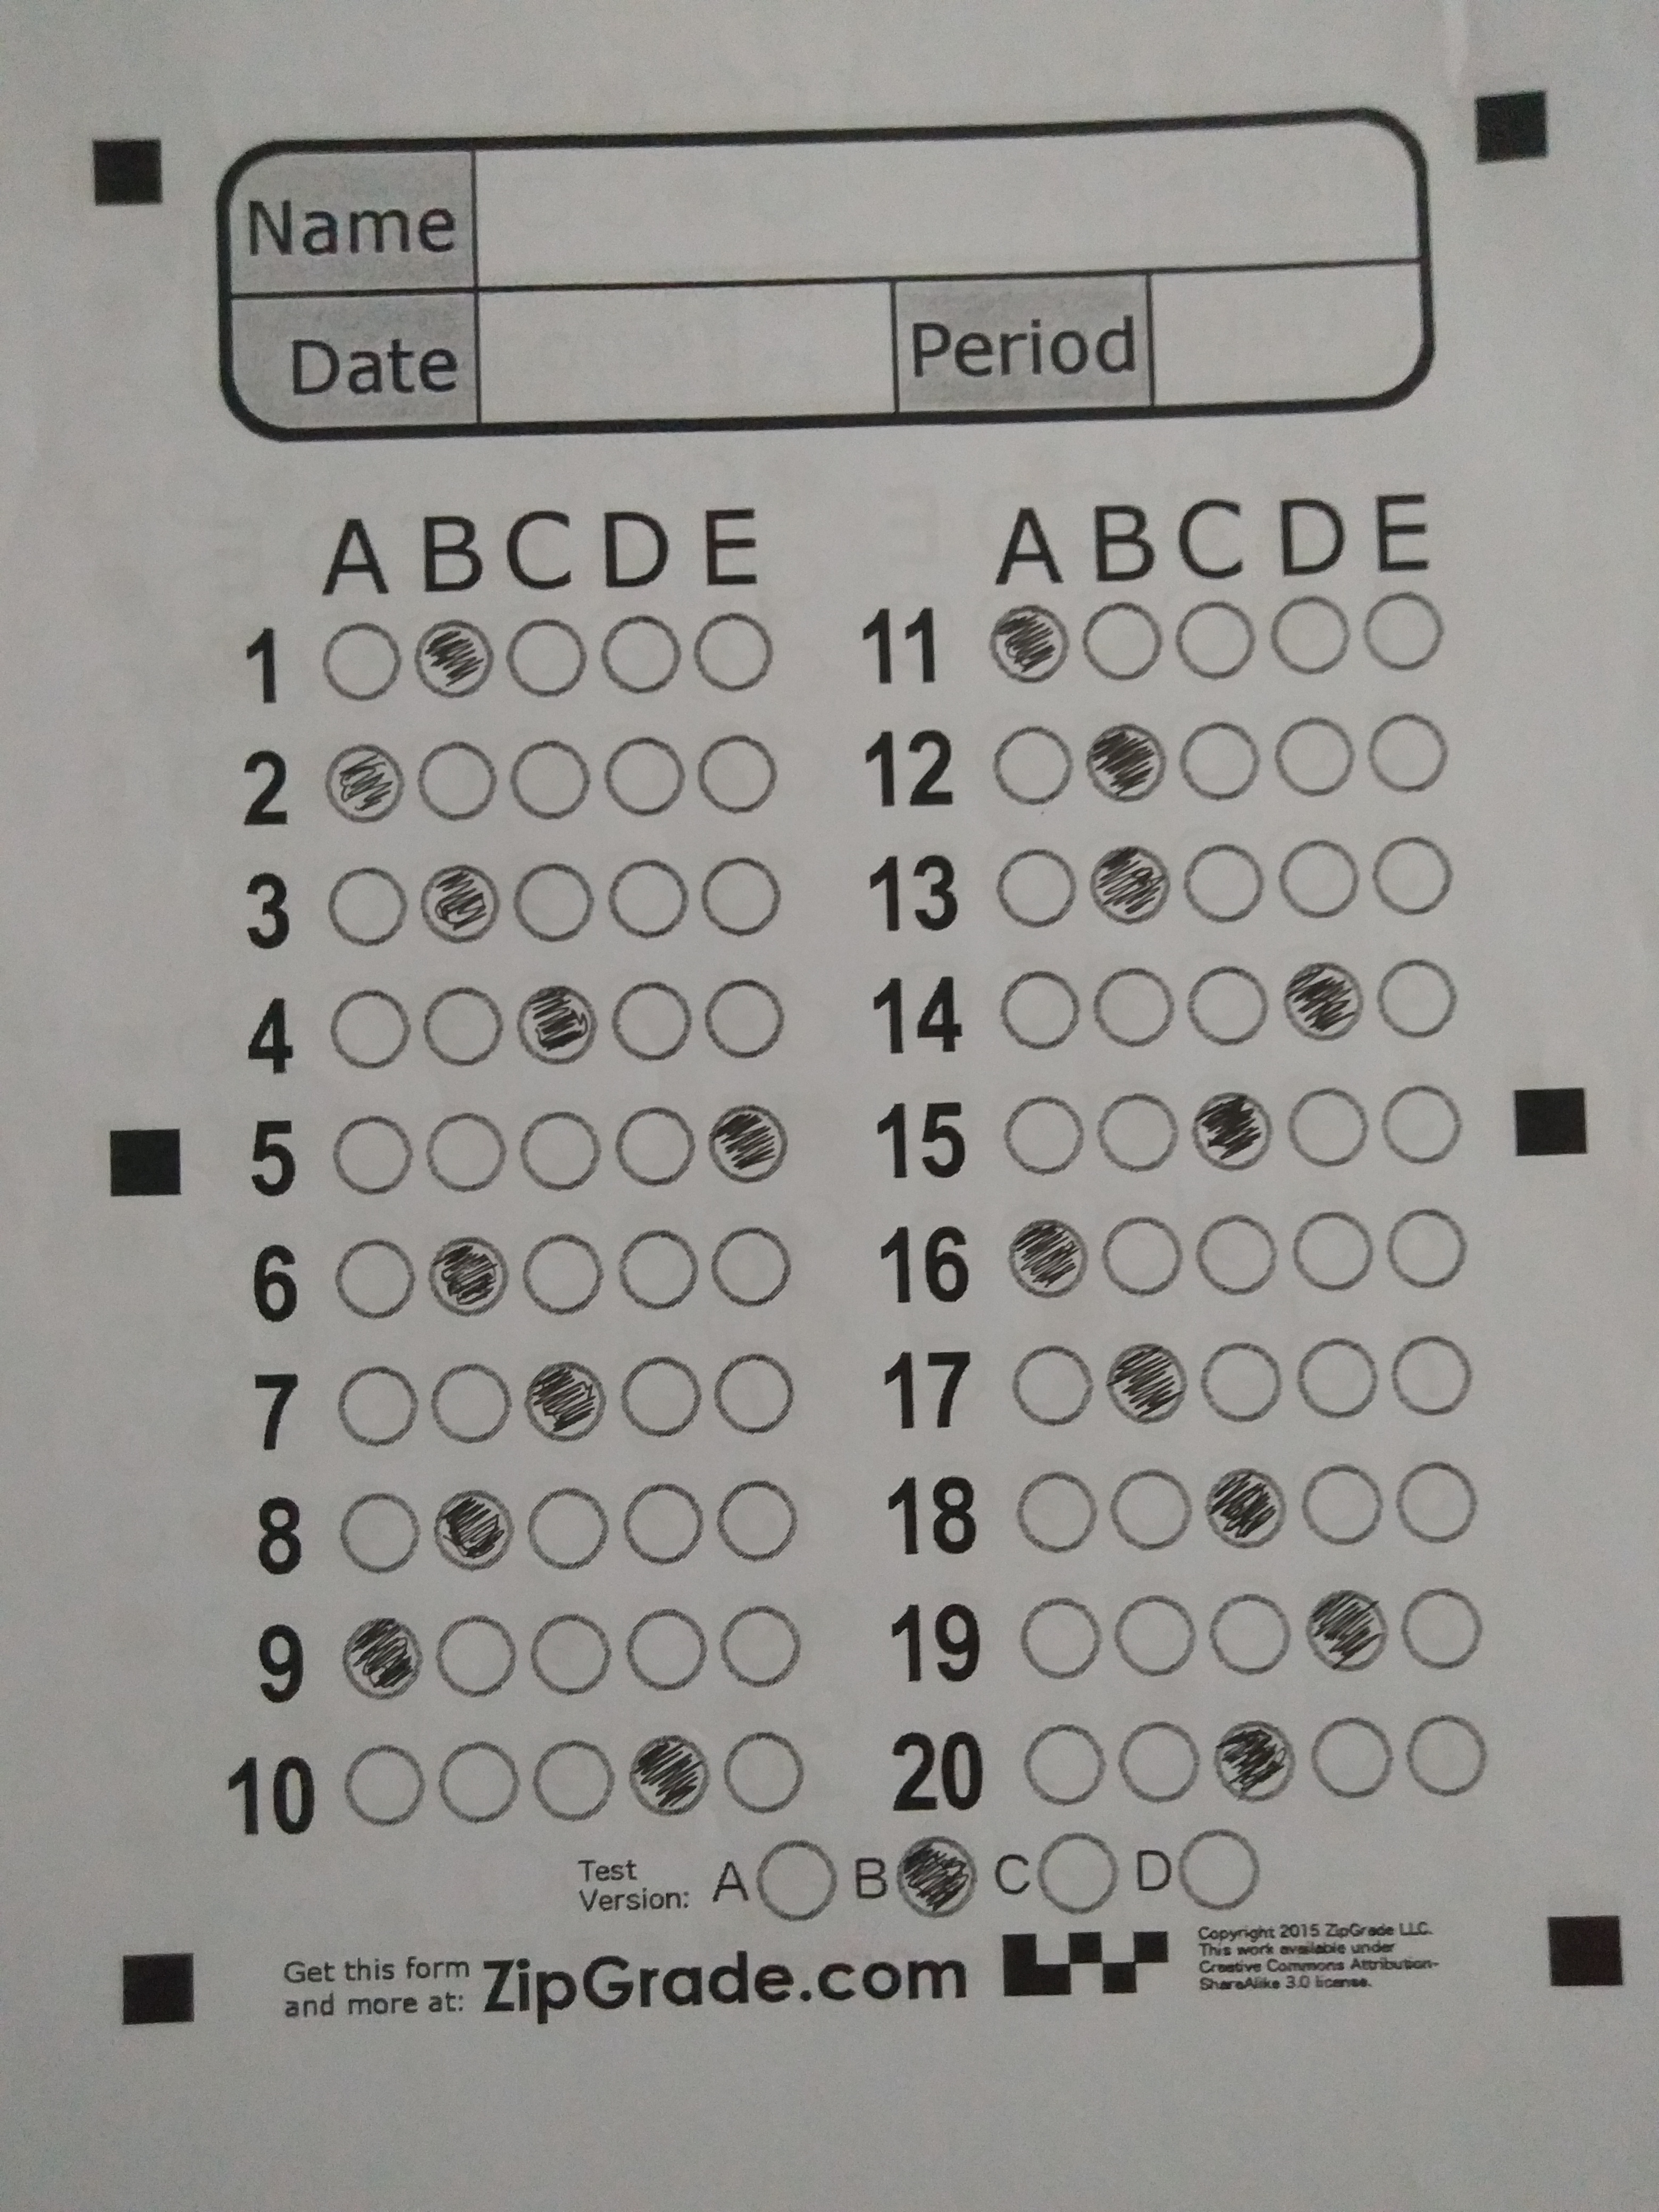not-c: (321, 620, 406, 704), (336, 1489, 422, 1573), (519, 1108, 605, 1191), (420, 988, 505, 1071), (688, 610, 774, 693), (1272, 714, 1358, 798), (1370, 834, 1455, 918), (1375, 956, 1460, 1040), (622, 1482, 706, 1566), (718, 1479, 802, 1562), (336, 1364, 420, 1447), (427, 1360, 511, 1444), (619, 1355, 702, 1439), (521, 1231, 605, 1315), (709, 1224, 793, 1308), (613, 1104, 697, 1188), (329, 986, 413, 1069), (699, 853, 782, 937), (608, 855, 692, 939), (511, 859, 594, 942), (328, 864, 411, 948), (694, 733, 777, 817), (507, 737, 591, 820), (1389, 1336, 1473, 1420), (1297, 1336, 1380, 1420), (1012, 1343, 1096, 1426), (1405, 1716, 1488, 1799), (1037, 1829, 1121, 1912), (1107, 1470, 1190, 1554), (1016, 1470, 1100, 1554), (1021, 1595, 1105, 1679), (1119, 1723, 1202, 1806), (1180, 1827, 1263, 1911), (437, 1742, 521, 1825), (532, 1740, 615, 1824), (723, 1730, 807, 1813), (1361, 587, 1445, 671), (1185, 963, 1269, 1047), (997, 968, 1080, 1052), (1378, 1083, 1462, 1167), (1096, 1090, 1180, 1174), (1000, 1090, 1084, 1174), (1385, 1205, 1469, 1289), (1293, 1209, 1377, 1292), (1100, 1212, 1183, 1296), (1173, 597, 1256, 681), (992, 721, 1075, 805), (995, 846, 1079, 930), (1269, 592, 1352, 676), (624, 1608, 708, 1691), (528, 1613, 612, 1696), (423, 1109, 509, 1191), (608, 981, 694, 1062), (599, 735, 685, 817), (599, 615, 685, 697), (1110, 1595, 1195, 1677), (1021, 1724, 1107, 1806), (343, 1743, 429, 1825), (1091, 965, 1176, 1047), (1276, 836, 1361, 918), (1182, 840, 1267, 921), (434, 1616, 519, 1698), (525, 1487, 608, 1569), (711, 1350, 795, 1432), (335, 1238, 418, 1320), (617, 1230, 701, 1312), (333, 1115, 416, 1197), (704, 977, 788, 1059), (410, 740, 493, 822), (505, 618, 589, 700), (1199, 1343, 1283, 1425), (1302, 1463, 1385, 1545), (1392, 1460, 1476, 1541), (1399, 1588, 1483, 1670), (1310, 1716, 1394, 1797), (1208, 1592, 1291, 1674), (756, 1839, 840, 1921), (1286, 1083, 1370, 1165), (1195, 1214, 1279, 1296), (1082, 601, 1166, 683), (1366, 711, 1450, 792), (1178, 719, 1262, 801), (720, 1606, 803, 1688)
taken-c: (1187, 1087, 1279, 1176), (890, 1832, 981, 1921), (627, 1731, 713, 1822), (1209, 1716, 1297, 1803), (511, 982, 599, 1068), (432, 1486, 518, 1573), (342, 1616, 427, 1703), (322, 738, 408, 824), (1303, 1587, 1389, 1672), (425, 1233, 511, 1318), (1086, 843, 1173, 927), (1107, 1339, 1190, 1426), (418, 859, 504, 942), (1281, 960, 1364, 1045), (1202, 1467, 1288, 1550), (1006, 1216, 1091, 1299), (525, 1355, 608, 1440), (704, 1103, 789, 1184), (1082, 721, 1168, 803), (985, 603, 1072, 683), (413, 618, 498, 698)
